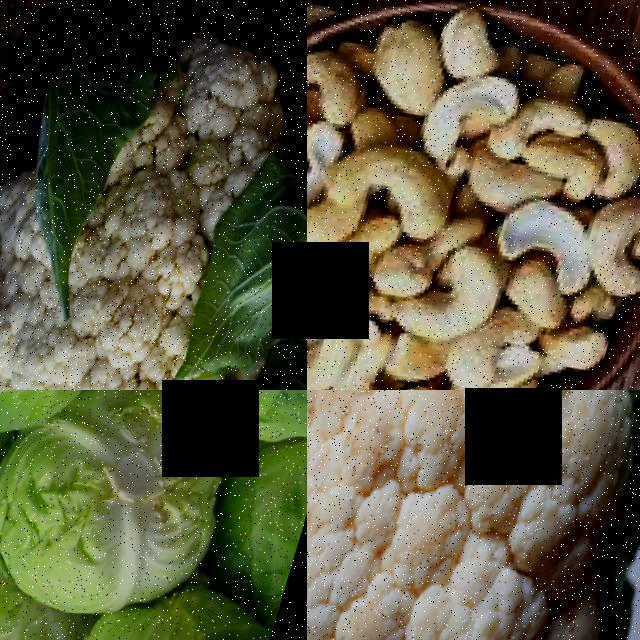cabbage: (0, 395, 243, 640), (130, 390, 307, 466)
cashew: (331, 94, 469, 234), (412, 244, 517, 388), (324, 218, 403, 337), (571, 195, 640, 321), (424, 0, 522, 85), (494, 85, 586, 171), (520, 125, 612, 211), (414, 71, 507, 155), (545, 327, 635, 390), (586, 126, 640, 212), (322, 335, 402, 390), (475, 339, 549, 390), (307, 191, 350, 273), (307, 322, 352, 390), (380, 369, 459, 390)
cauliflower: (0, 0, 307, 390), (307, 390, 640, 640)
